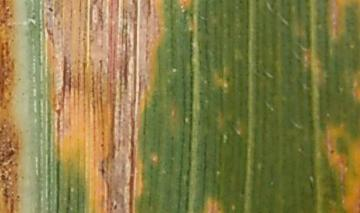tarspot: (99, 157, 106, 176), (328, 147, 336, 155), (47, 6, 54, 13), (112, 203, 118, 211)
